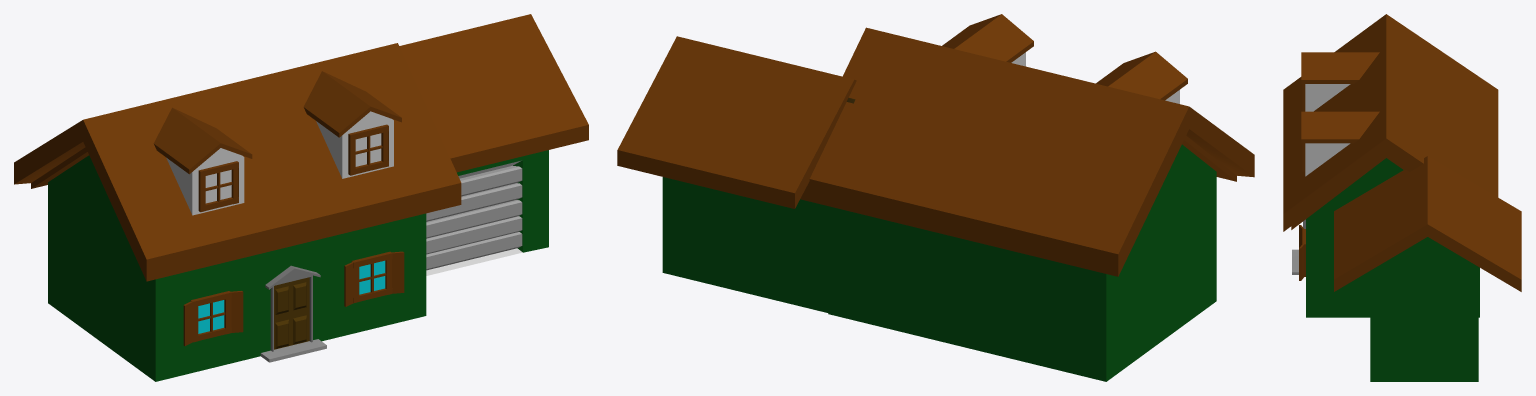
File: CasaSuburbama2.fbx
The picture shows the model from 3 angles, left to right: view 1: azimuth 30°, elevation 25°; view 2: azimuth 150°, elevation 25°; view 3: azimuth 270°, elevation 25°; orthographic projection. The views are drawn at different scales.
Parts seen in each view (by area): view 1: CasaSuburbama2; view 2: CasaSuburbama2; view 3: CasaSuburbama2.
Part boxes in pixels (x1,y1,x2,y2): CasaSuburbama2: (14,14,588,381); CasaSuburbama2: (617,14,1254,381); CasaSuburbama2: (1283,14,1521,381).
Bounding box in the file's own units: 1167 × 556 × 627.
